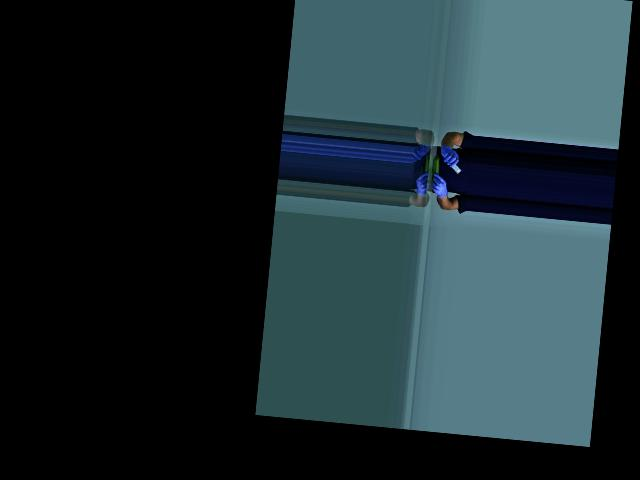cucumber: (430, 154, 440, 182)
